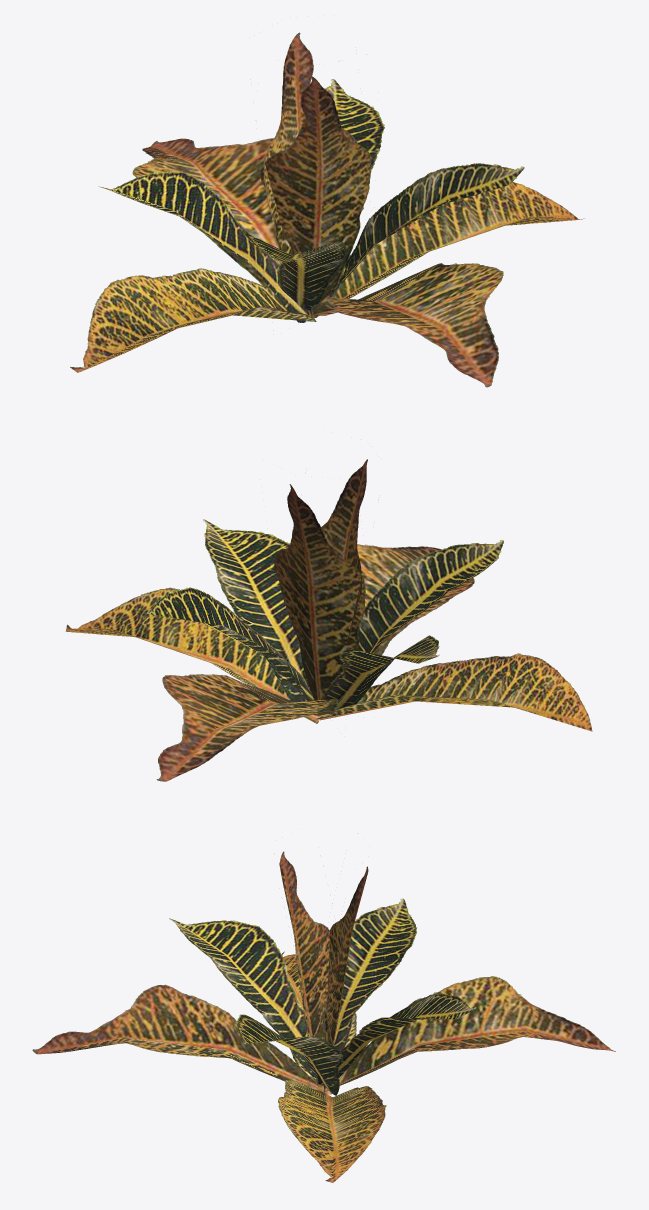
The model's file is plant24.FBX.
The picture shows the model from 3 angles, top to bottom: view 1: azimuth 30°, elevation 25°; view 2: azimuth 150°, elevation 25°; view 3: azimuth 270°, elevation 25°; orthographic projection. The views are drawn at different scales.
Parts seen in each view (by area): view 1: plant24; view 2: plant24; view 3: plant24.
Boxes of the visible parts, bbox=[...] form: plant24: bbox=[70, 32, 584, 387]; plant24: bbox=[65, 459, 592, 781]; plant24: bbox=[32, 851, 615, 1182].
Bounding box in the file's own units: 2.21 × 1.03 × 2.34.
